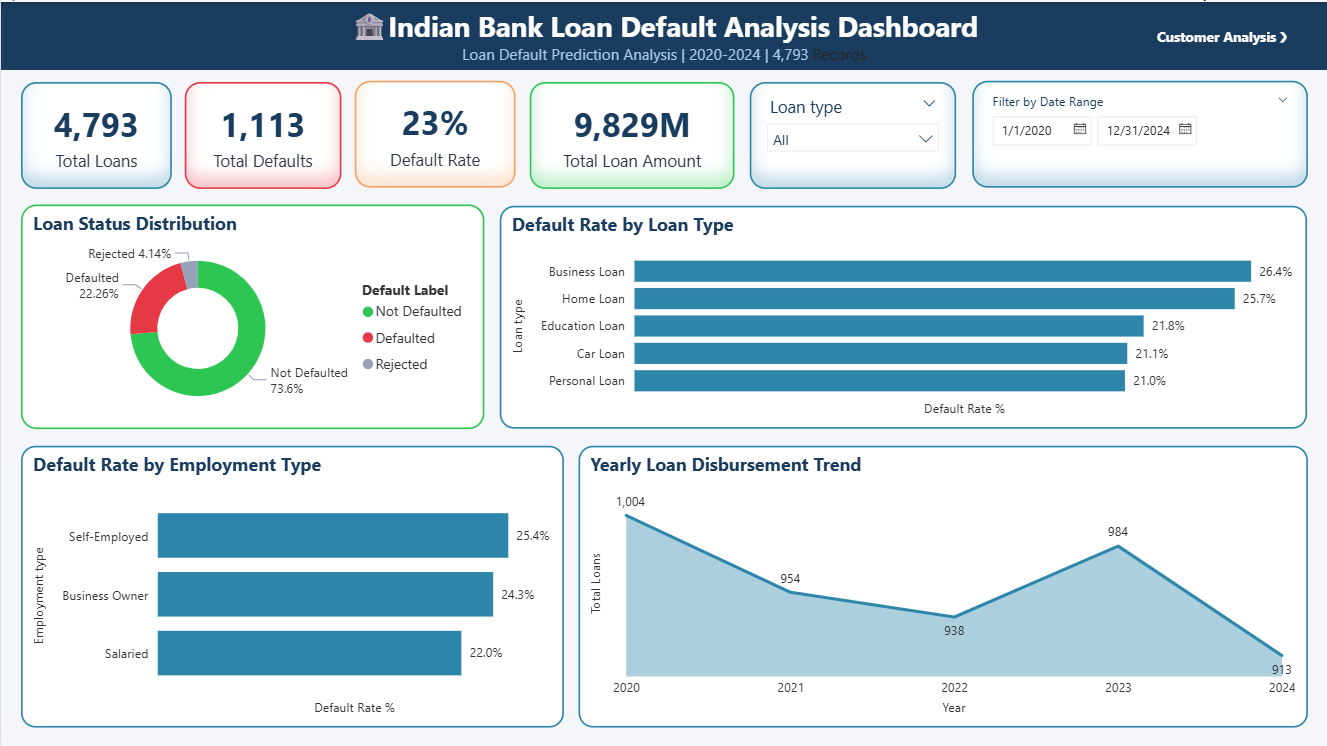

This screenshot's page, from the dashboard's own definition file:
{"tool":"powerbi","page":{"name":"Executive summary","canvas":[1280,720],"ordinal":0},"visuals":[{"type":"textbox","box":[0,0,1280.3,65.9],"z":0},{"type":"card","fields":{"Values":["_Measures (2).Total Loans"]},"box":[19.2,76.8,145.5,102.9],"z":1000},{"type":"card","fields":{"Values":["_Measures (2).Total Defaults"]},"box":[177,76.8,150.9,102.9],"z":2000},{"type":"card","fields":{"Values":["_Measures (2).Default Rate"]},"box":[341.7,75.5,155.1,102.9],"z":3000},{"type":"card","fields":{"Values":["_Measures (2).Total Loan Amount"]},"box":[510.5,76.8,197.6,102.9],"z":4000},{"type":"donutChart","title":"Loan Status Distribution","fields":{"Category":["loan_powerbi.Default Label"],"Y":["CountNonNull(loan_powerbi.loan_id)"]},"box":[19.2,194.9,447.3,216.8],"z":5000},{"type":"clusteredBarChart","title":"Default Rate by Loan Type","fields":{"Category":["loan_powerbi.loan_type"],"Y":["_Measures (2).Default Rate raw"]},"box":[481.6,196.2,779.4,215.4],"z":6000},{"type":"clusteredBarChart","title":"Default Rate by Employment Type","fields":{"Category":["loan_powerbi.employment_type"],"Y":["_Measures (2).Default Rate raw"]},"box":[19.2,428.1,524.2,271.7],"z":7000},{"type":"lineChart","title":"Yearly Loan Disbursement Trend","fields":{"Category":["loan_powerbi.loan_application_date.Variation.Date Hierarchy.Year"],"Y":["_Measures (2).Total Loans"]},"box":[557.1,428.1,703.9,271.7],"z":8000},{"type":"slicer","fields":{"Values":["loan_powerbi.loan_type"]},"box":[723.2,76.8,199,102.9],"z":9000},{"type":"slicer","fields":{"Values":["loan_powerbi.loan_application_date"]},"box":[937.2,75.5,323.8,102.9],"z":10000},{"type":"actionButton","box":[1095,13.7,166,39.8],"z":11000}]}

Visuals, with their boxes in screenshot pixels (x1, y1, x2, y2), scaled from the page's 1280x720 canvas onto the 1327x746 screenshot:
textbox: (x1=0, y1=0, x2=1326, y2=68)
card - _Measures (2).Total Loans: (x1=20, y1=80, x2=171, y2=186)
card - _Measures (2).Total Defaults: (x1=183, y1=80, x2=340, y2=186)
card - _Measures (2).Default Rate: (x1=354, y1=78, x2=515, y2=185)
card - _Measures (2).Total Loan Amount: (x1=529, y1=80, x2=734, y2=186)
"Loan Status Distribution" donutChart: (x1=20, y1=202, x2=484, y2=427)
"Default Rate by Loan Type" clusteredBarChart: (x1=499, y1=203, x2=1307, y2=426)
"Default Rate by Employment Type" clusteredBarChart: (x1=20, y1=444, x2=563, y2=725)
"Yearly Loan Disbursement Trend" lineChart: (x1=578, y1=444, x2=1307, y2=725)
slicer - loan_powerbi.loan_type: (x1=750, y1=80, x2=956, y2=186)
slicer - loan_powerbi.loan_application_date: (x1=972, y1=78, x2=1307, y2=185)
actionButton: (x1=1135, y1=14, x2=1307, y2=55)
